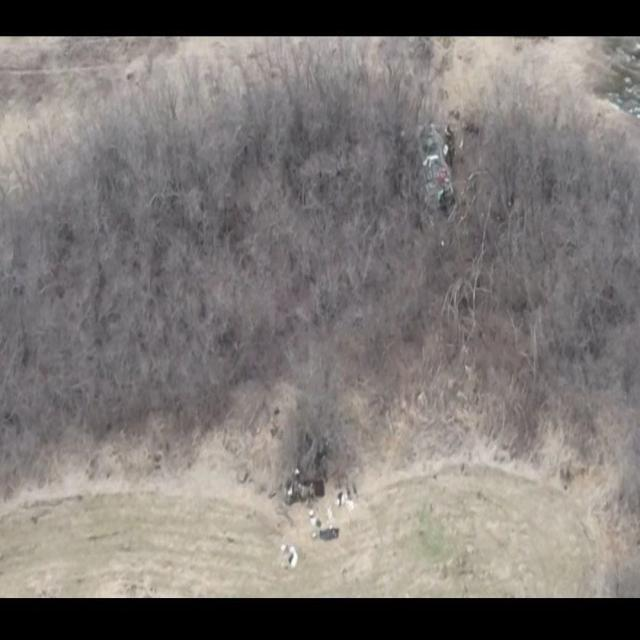cars: (422, 114, 455, 218)
